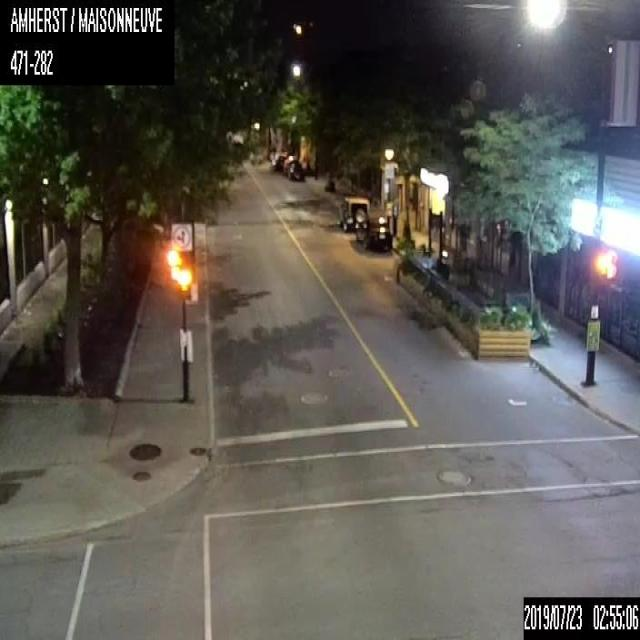vehicle: (355, 213, 392, 253), (340, 195, 369, 230), (287, 160, 304, 182)
